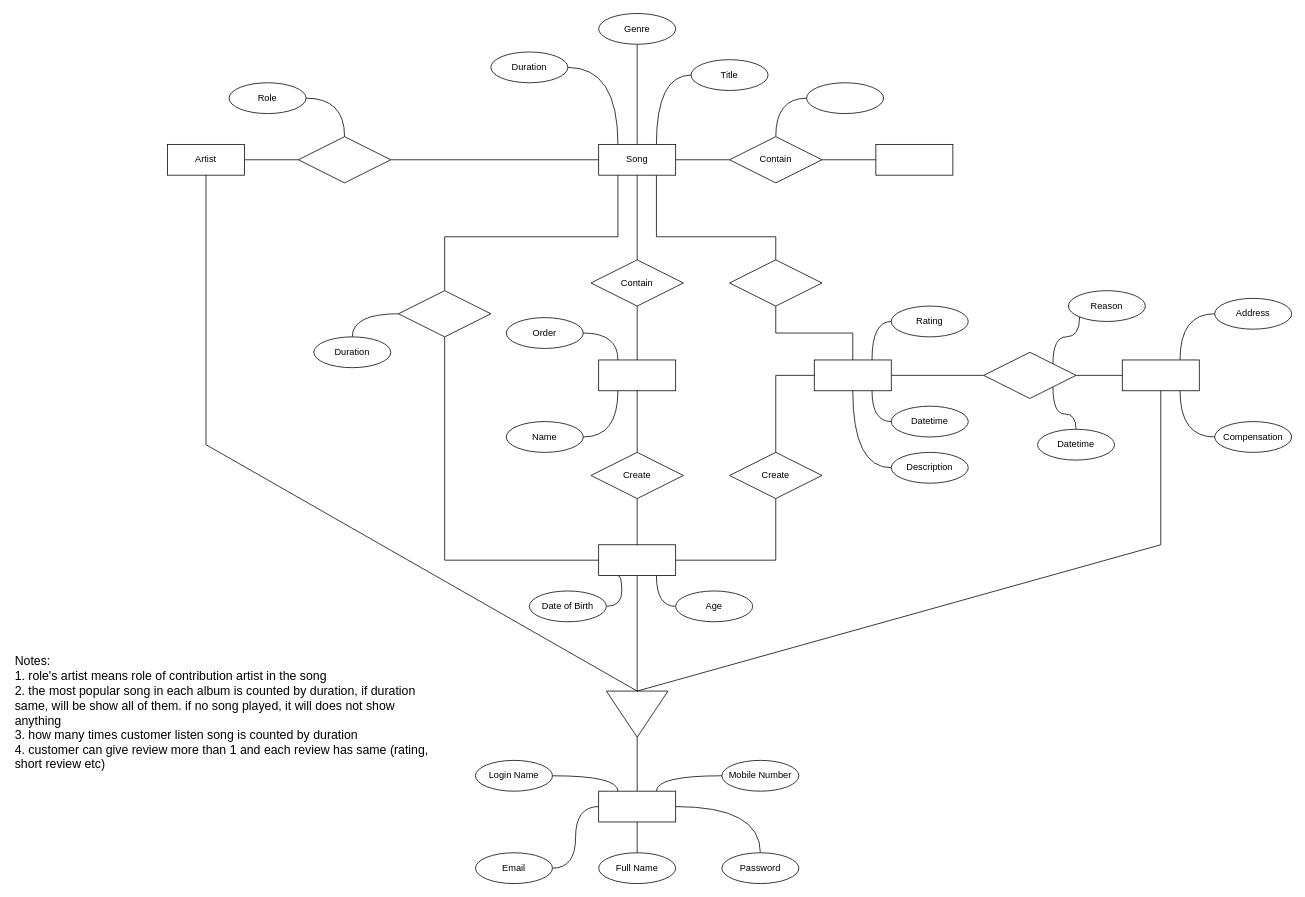
The diagram is 1305 pixels wide and 897 high, and some of its shapes have lost their labels. The shapes that lost their labels are listed below. From the top down, each one's centre as x and y in pixels, then its label:
At point (845, 98): "Most Popular".
At point (344, 159): "Contribute".
At point (914, 159): "Album".
At point (775, 282): "Belong".
At point (444, 313): "Listen".
At point (637, 375): "Playlist".
At point (852, 375): "Review".
At point (1029, 375): "Remove".
At point (1160, 375): "Staff".
At point (637, 560): "Customer".
At point (637, 713): "IsA".
At point (637, 806): "User".
